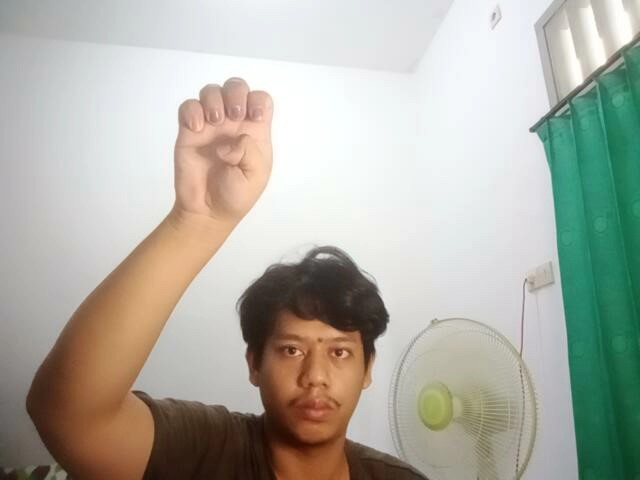E: (162, 70, 289, 212)
